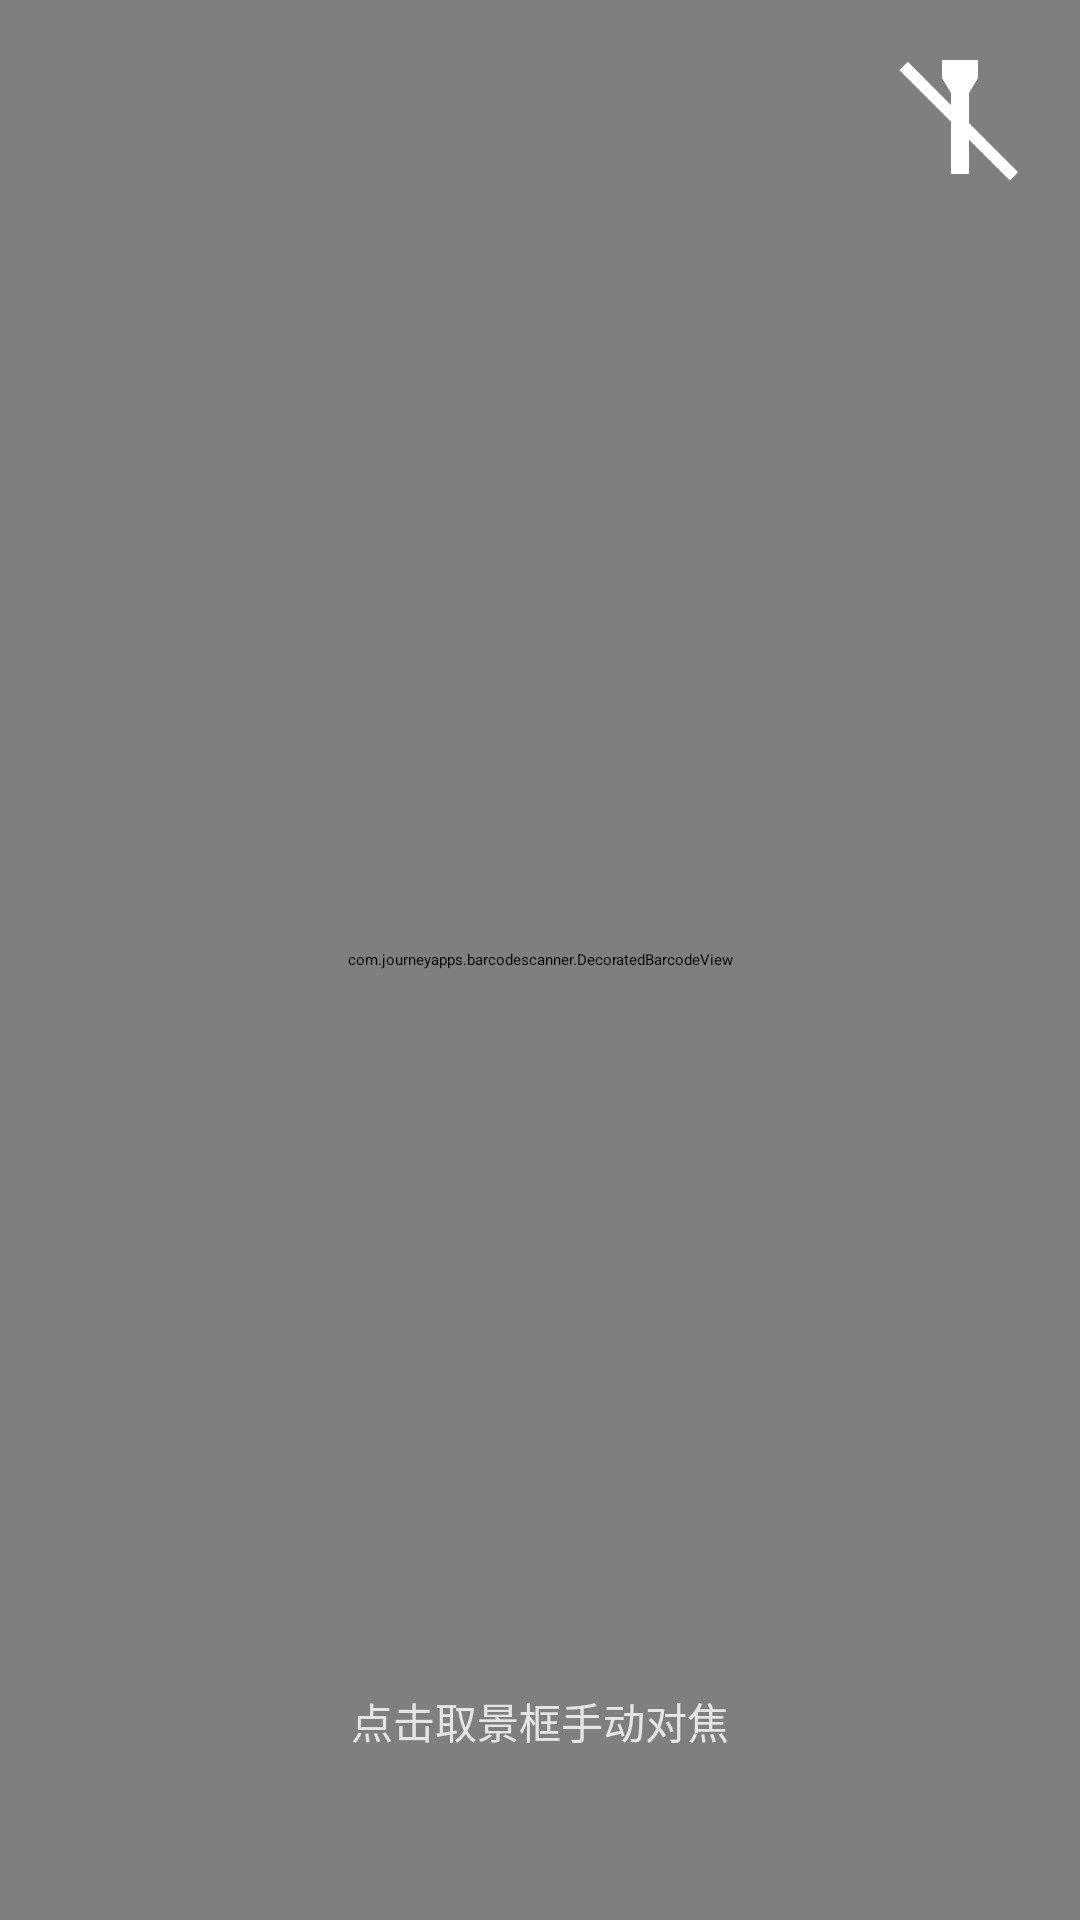

Icons on this 1080*1920 Android screen, each with its box as (x1, y1, x2, y2):
打开闪光灯: (899, 60, 1018, 181)
